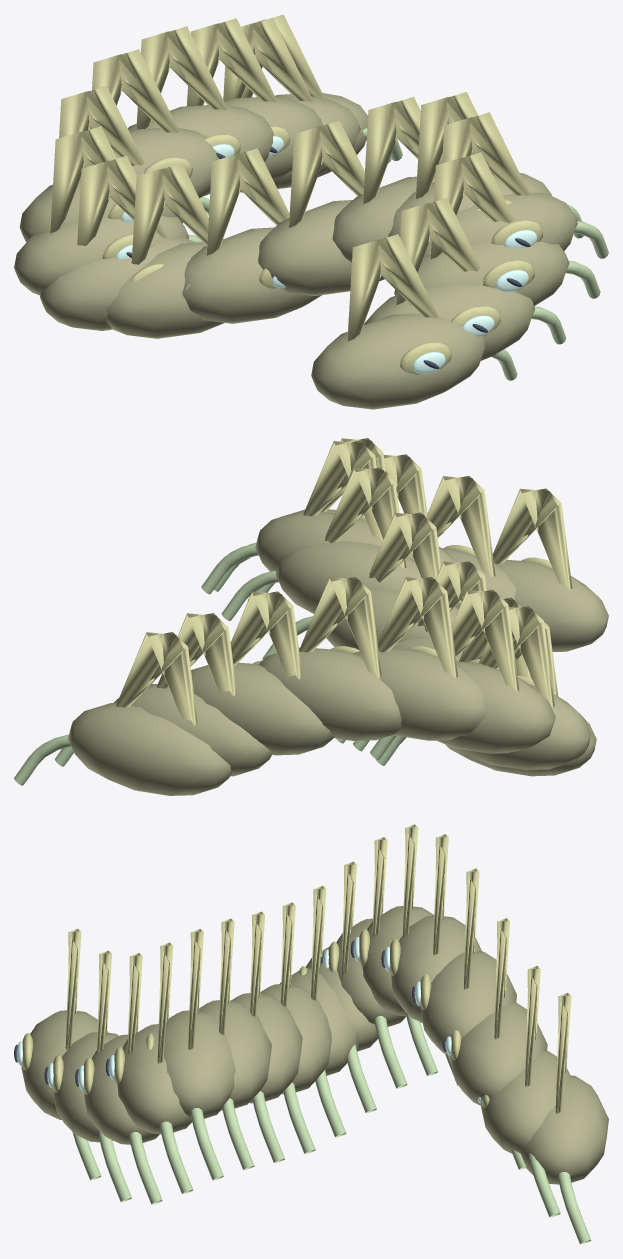
File: bio_ribbon_colony_09_far.glb
3 views of the same model, one above another, from view 1: azimuth 30°, elevation 25°; view 2: azimuth 150°, elevation 25°; view 3: azimuth 270°, elevation 25° (orthographic). The views are drawn at different scales.
Visible parts, largest first — view 1: Overlapping folded ribbon, Overlapping folded ribbon.007, Overlapping folded ribbon.006, Overlapping folded ribbon.008, Raised pleated edge, Overlapping folded ribbon.009, Overlapping folded ribbon.010, Raised pleated edge.007, Overlapping folded ribbon.002, Overlapping folded ribbon.001, Raised pleated edge.008, Raised pleated edge.006 (+25 smaller); view 2: Overlapping folded ribbon.016, Overlapping folded ribbon.013, Overlapping folded ribbon.012, Overlapping folded ribbon.014, Overlapping folded ribbon.011, Overlapping folded ribbon, Overlapping folded ribbon.005, Overlapping folded ribbon.015, Raised pleated edge.012, Raised pleated edge, Raised pleated edge.013, Raised pleated edge.016 (+20 smaller); view 3: Overlapping folded ribbon.004, Overlapping folded ribbon.016, Overlapping folded ribbon.014, Overlapping folded ribbon.013, Overlapping folded ribbon.015, Overlapping folded ribbon.003, Overlapping folded ribbon.012, Overlapping folded ribbon.005, Overlapping folded ribbon, Overlapping folded ribbon.006, Overlapping folded ribbon.007, Overlapping folded ribbon.002 (+36 smaller).
Boxes of the visible parts, bbox=[...] form: Overlapping folded ribbon: bbox=[311, 313, 485, 409]; Overlapping folded ribbon.007: bbox=[182, 227, 321, 323]; Overlapping folded ribbon.006: bbox=[258, 200, 384, 295]; Overlapping folded ribbon.008: bbox=[106, 242, 223, 338]; Raised pleated edge: bbox=[347, 234, 451, 374]; Overlapping folded ribbon.009: bbox=[40, 237, 194, 330]; Overlapping folded ribbon.010: bbox=[14, 215, 188, 295]; Raised pleated edge.007: bbox=[206, 148, 289, 288]; Overlapping folded ribbon.002: bbox=[394, 241, 569, 305]; Overlapping folded ribbon.001: bbox=[364, 284, 534, 360]; Raised pleated edge.008: bbox=[131, 163, 208, 291]; Raised pleated edge.006: bbox=[289, 120, 364, 255]; Overlapping folded ribbon.016: bbox=[68, 702, 231, 795]; Overlapping folded ribbon.013: bbox=[258, 647, 401, 740]; Overlapping folded ribbon.012: bbox=[352, 648, 485, 740]; Overlapping folded ribbon.014: bbox=[191, 662, 334, 755]; Overlapping folded ribbon.011: bbox=[437, 661, 555, 753]; Overlapping folded ribbon: bbox=[495, 560, 608, 651]; Overlapping folded ribbon.005: bbox=[275, 541, 421, 613]; Overlapping folded ribbon.015: bbox=[113, 684, 271, 776]; Raised pleated edge.012: bbox=[377, 577, 457, 677]; Raised pleated edge: bbox=[493, 488, 572, 589]; Raised pleated edge.013: bbox=[299, 577, 381, 677]; Raised pleated edge.016: bbox=[116, 632, 197, 725]; Overlapping folded ribbon.004: bbox=[158, 1010, 235, 1120]; Overlapping folded ribbon.016: bbox=[521, 1075, 608, 1184]; Overlapping folded ribbon.014: bbox=[450, 1002, 547, 1105]; Overlapping folded ribbon.013: bbox=[421, 951, 516, 1055]; Overlapping folded ribbon.015: bbox=[481, 1050, 570, 1153]; Overlapping folded ribbon.003: bbox=[117, 1024, 192, 1134]; Overlapping folded ribbon.012: bbox=[391, 915, 481, 1022]; Overlapping folded ribbon.005: bbox=[199, 1000, 271, 1110]; Overlapping folded ribbon: bbox=[21, 1010, 108, 1119]; Overlapping folded ribbon.006: bbox=[231, 993, 302, 1103]; Overlapping folded ribbon.007: bbox=[260, 984, 331, 1094]; Overlapping folded ribbon.002: bbox=[84, 1034, 159, 1144].
Bounding box in the file's own units: 2.81 × 1.36 × 3.04.
